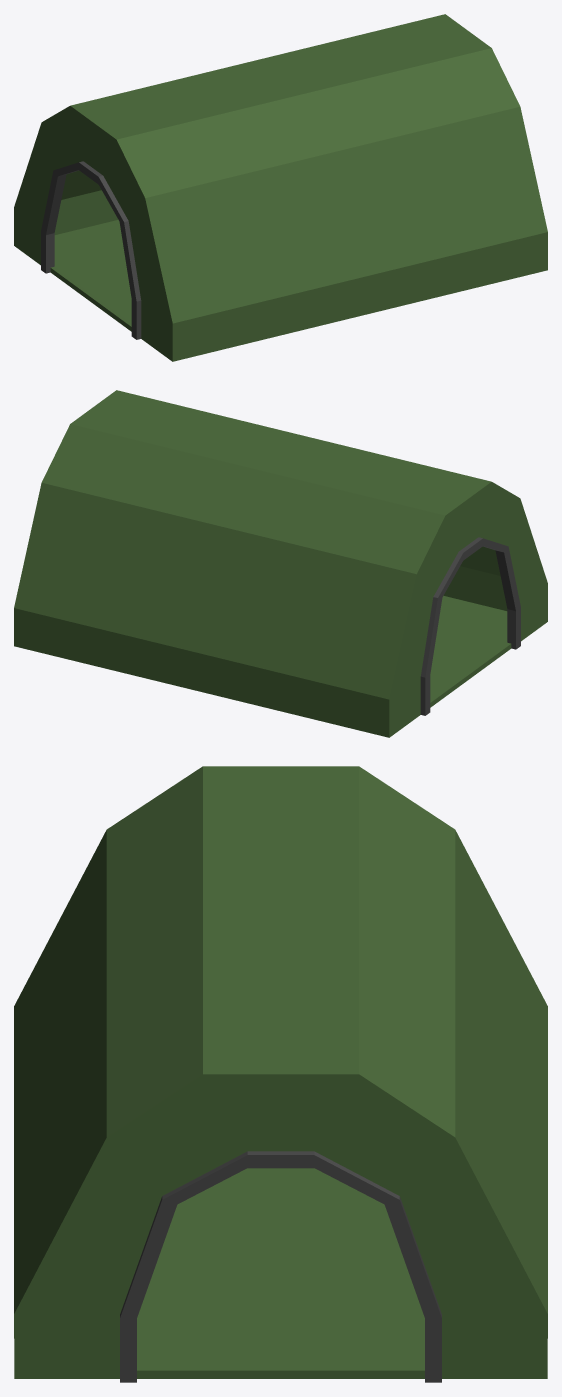
Rendered from MilitaryTent.fbx.
3 views of the same model, one above another, from view 1: azimuth 30°, elevation 25°; view 2: azimuth 150°, elevation 25°; view 3: azimuth 270°, elevation 25° (orthographic). The views are drawn at different scales.
Visible parts, largest first — view 1: MilitaryTent_LOD0.000; view 2: MilitaryTent_LOD0.000; view 3: MilitaryTent_LOD0.000.
Boxes of the visible parts, x1,y1,x2,y2 form: MilitaryTent_LOD0.000: (14,14,547,361); MilitaryTent_LOD0.000: (14,390,547,737); MilitaryTent_LOD0.000: (14,766,547,1382).
Size of what is drawn, in the model's own units: 1531 by 689 by 1095.
Materials: 1 (1 with a texture image).
